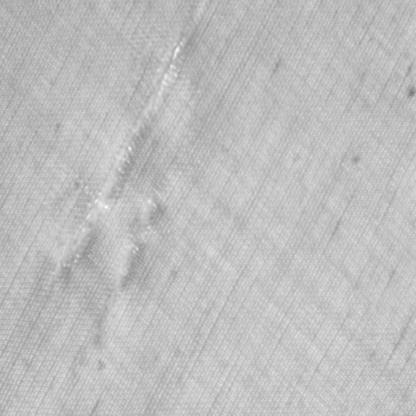thread error: (54, 1, 204, 291), (117, 193, 167, 291)
